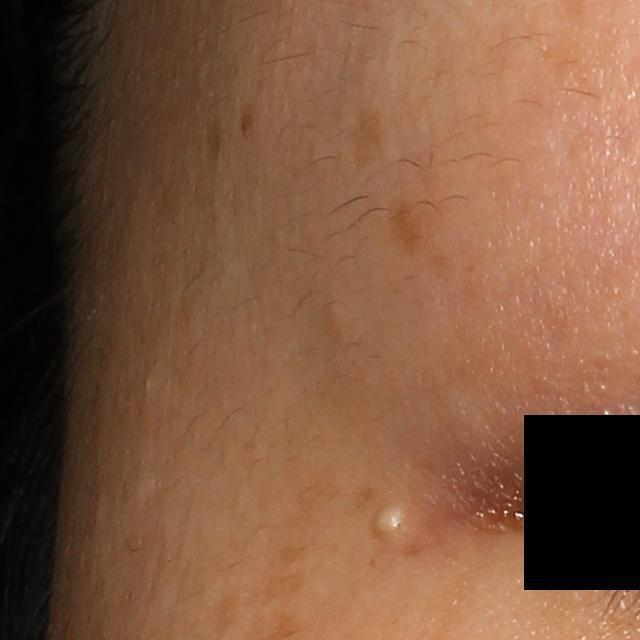melasma: (292, 474, 340, 525), (353, 106, 391, 165)
other: (362, 492, 422, 549)
